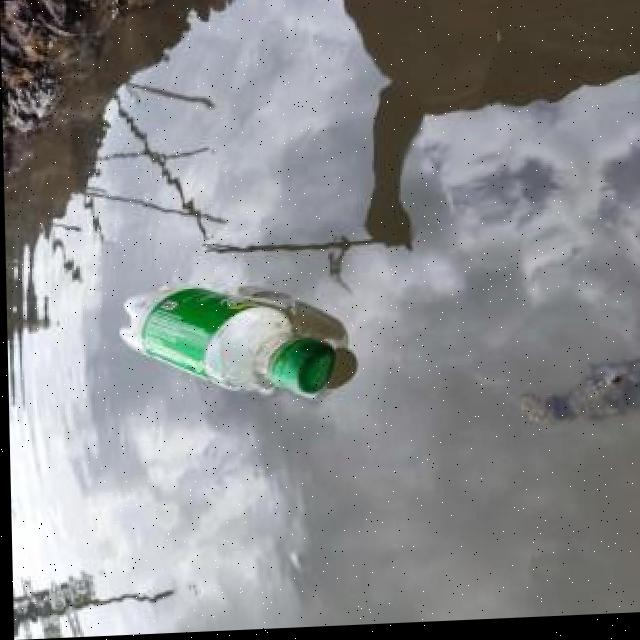bottle: (109, 274, 339, 410)
